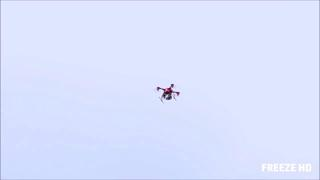UAV: (156, 84, 180, 103)
